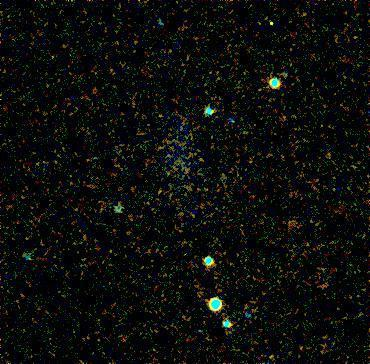star: (257, 7, 287, 37)
